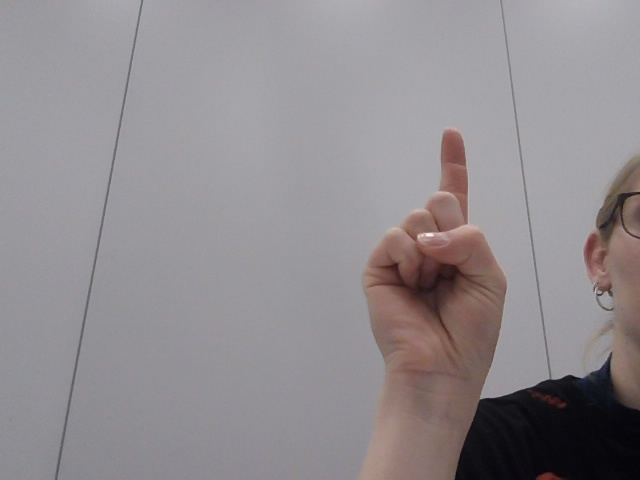up: (313, 120, 564, 371)
